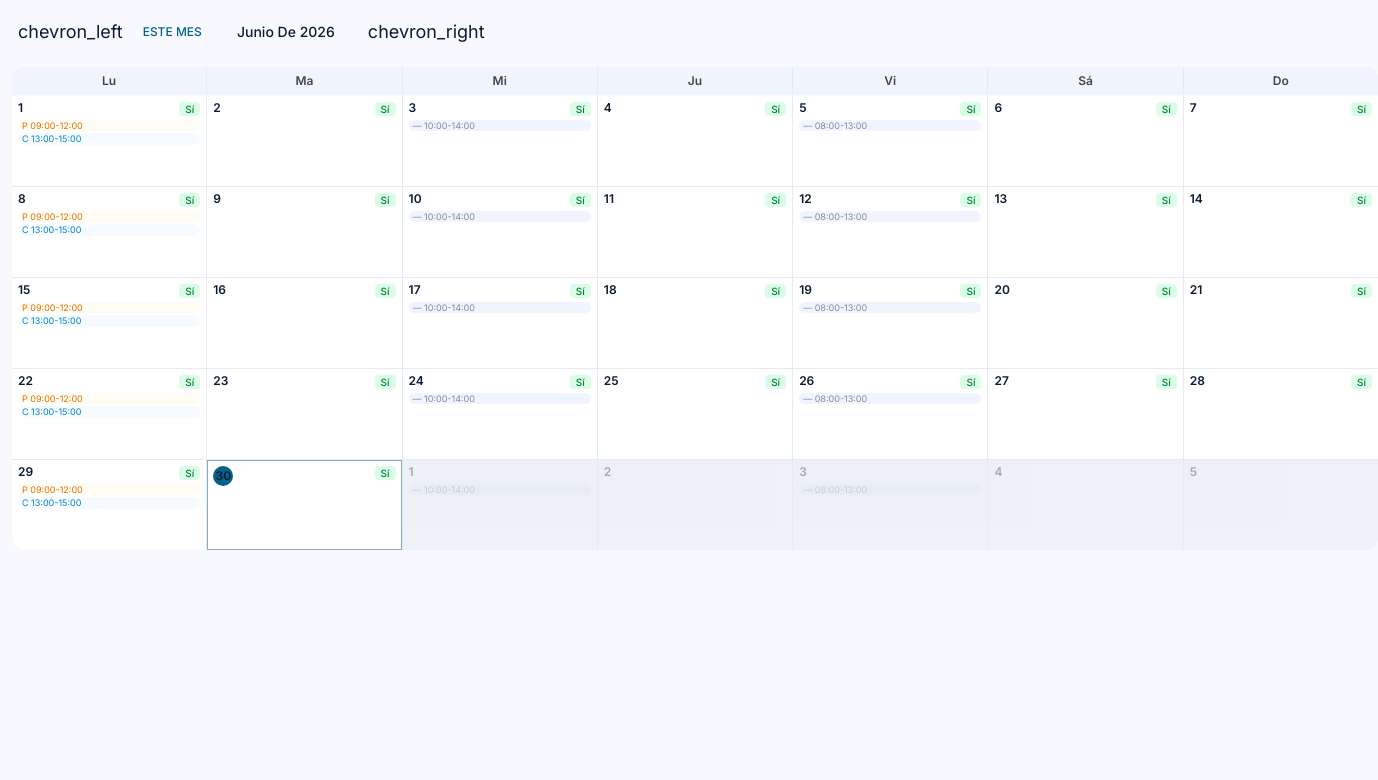
CalendarGrid › navigates to next month when clicking right arrow
What coordinates should you click on to do the following:
click the button with aria-label "Mes siguiente"
I would click on:
 (426, 32)
Its box is [362,12,491,51].
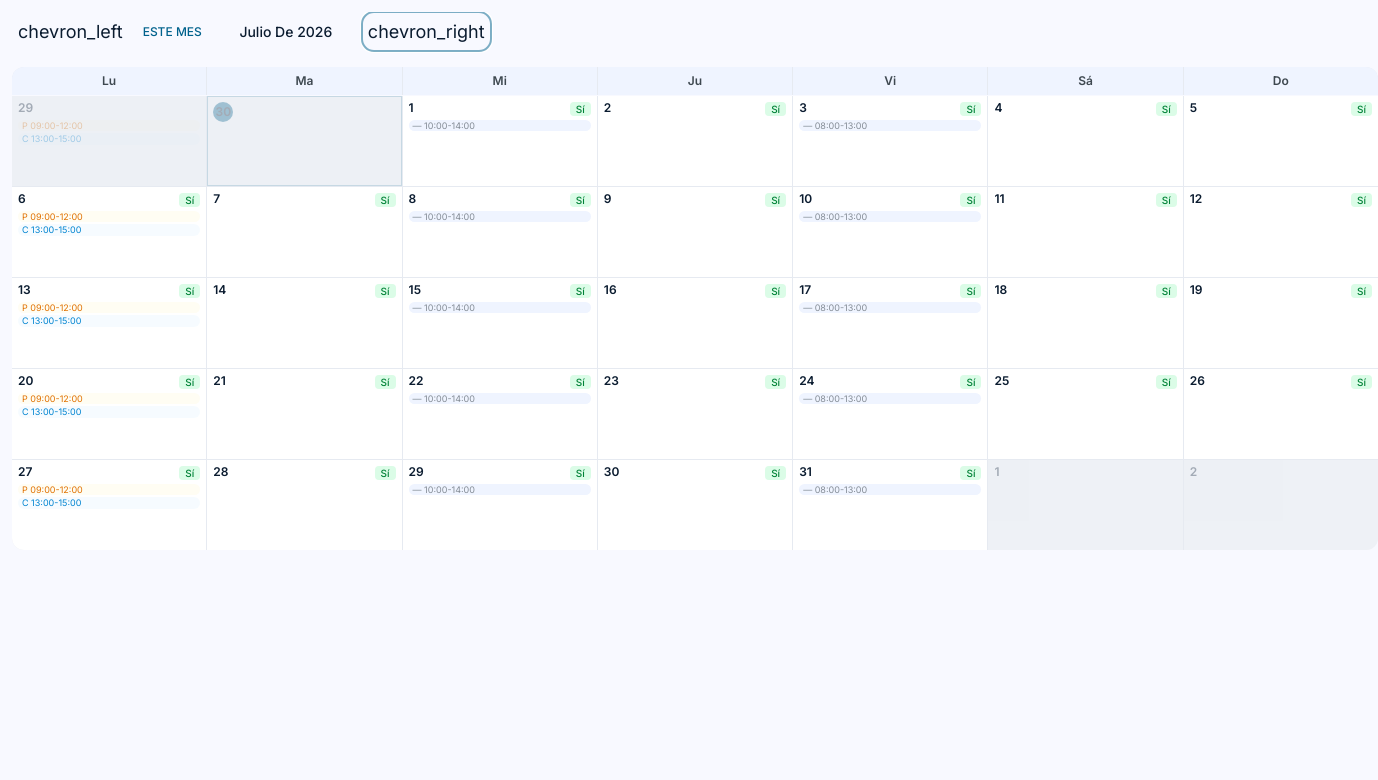
expect the text "julio de 2026" is shown: met, box [239,22,332,40]
